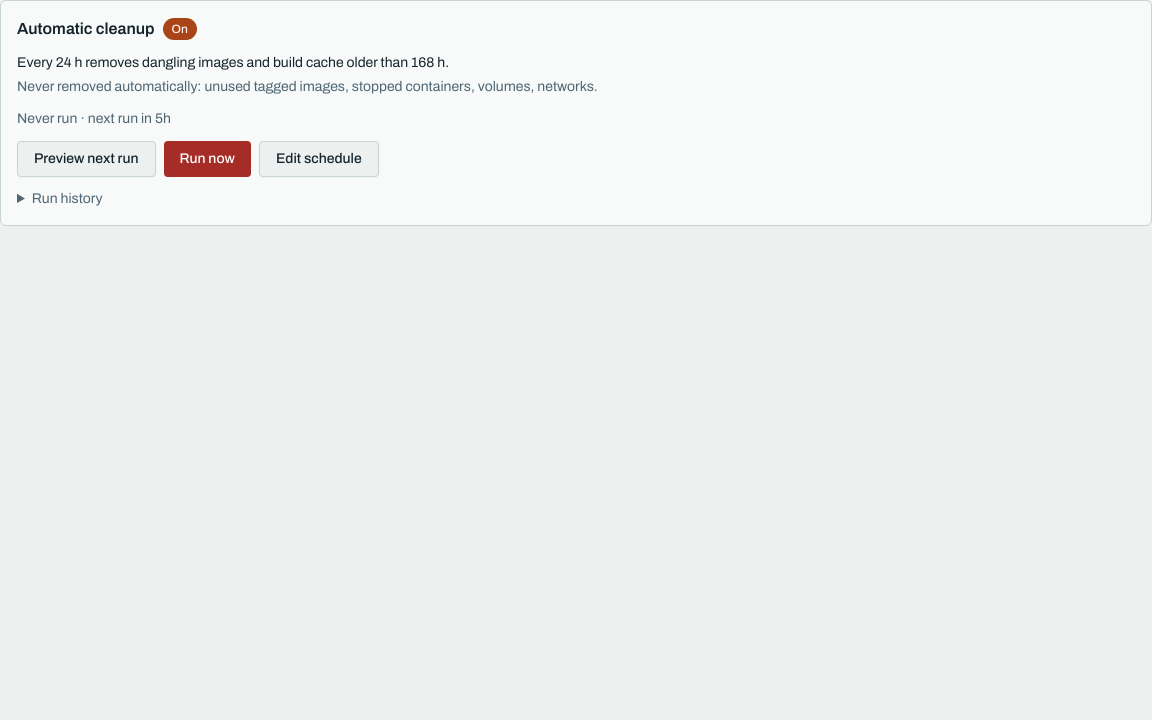
Scenario: AutoCleanupPanel: Preview next run › renders the repository name, and not the image id, when the image has one
The width and height of the screenshot is (1152, 720).
Step 1. Click the button "Preview next run" → coordinates (86, 159), box [17,141,156,177]
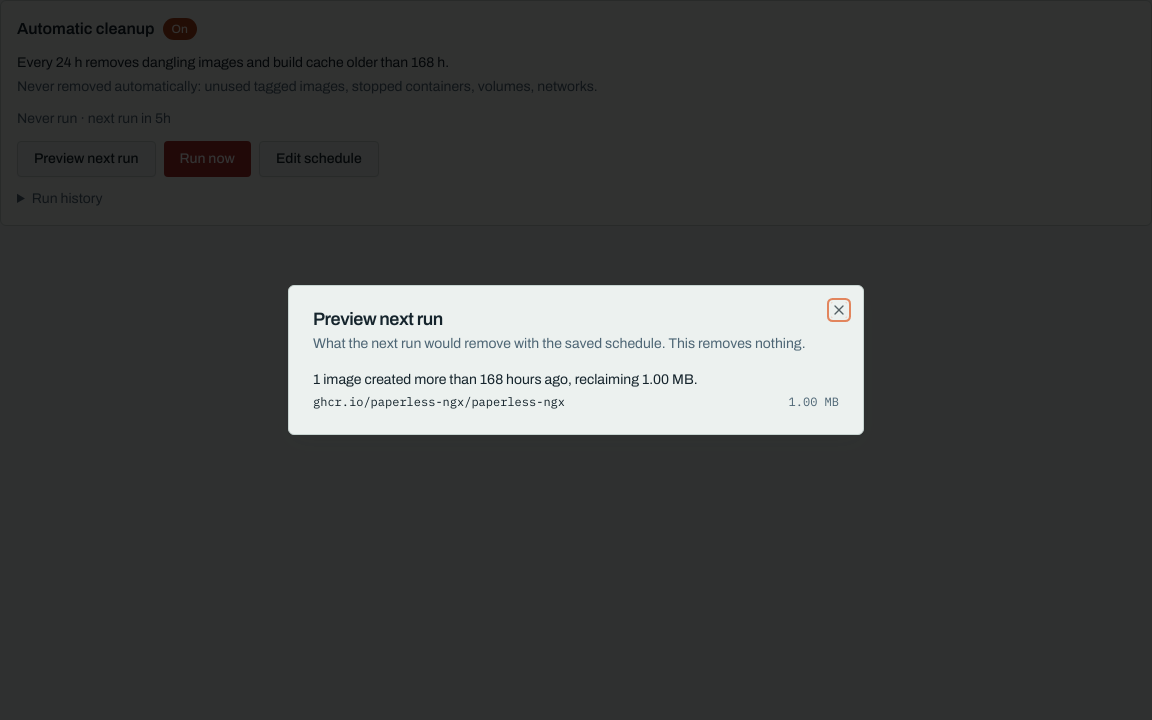
Expected: the text "ghcr.io/paperless-ngx/paperless-ngx" is shown, [313,394,565,410]
